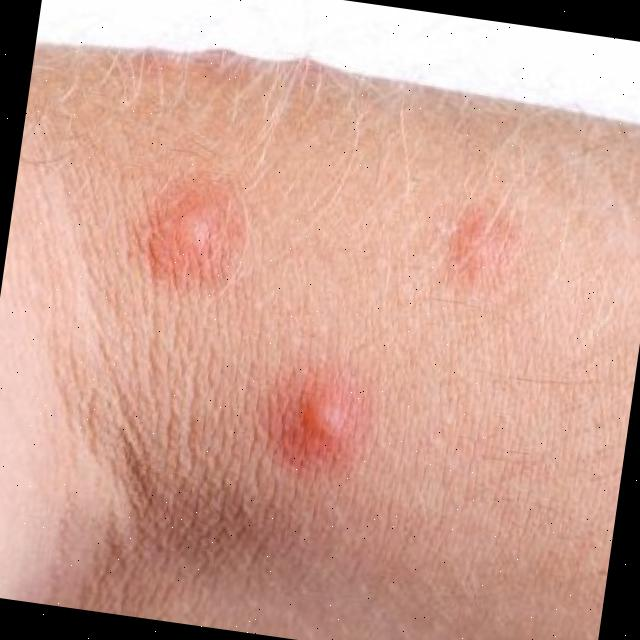kan emici bocekler: (388, 182, 556, 323), (123, 171, 269, 327), (236, 353, 394, 495)
